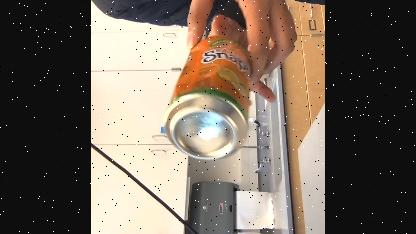Can: (164, 36, 252, 160)
